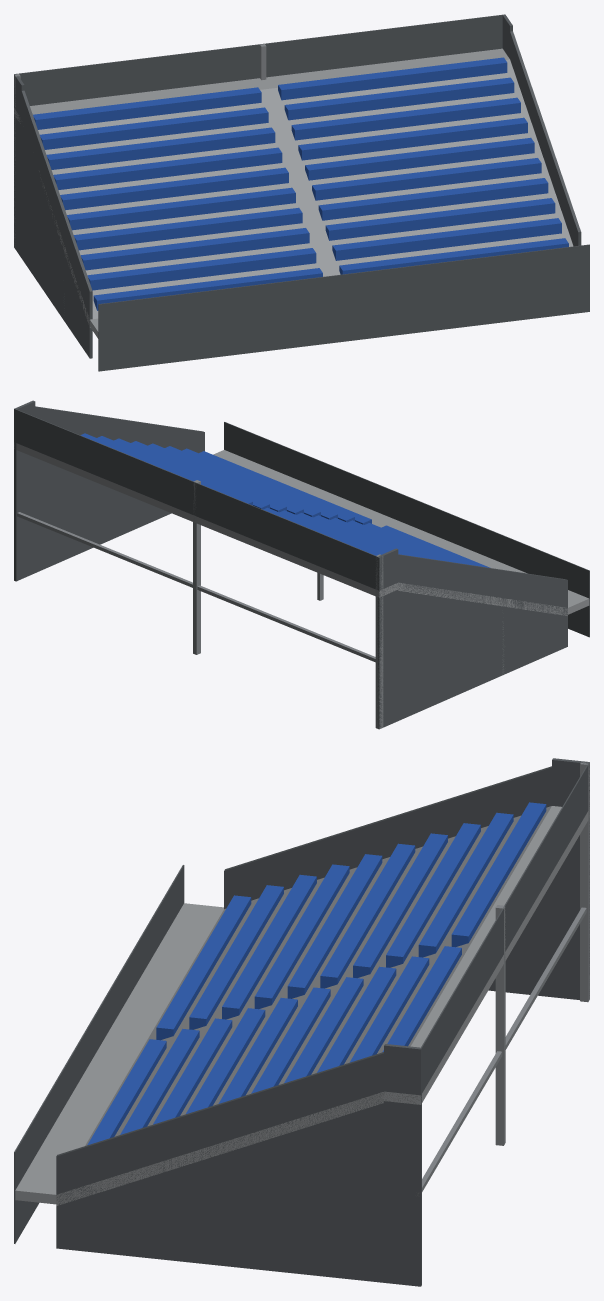
Rendered from spa_stand_gold7bis.glb.
The picture shows the model from 3 angles, top to bottom: view 1: azimuth 30°, elevation 25°; view 2: azimuth 150°, elevation 25°; view 3: azimuth 270°, elevation 25°; orthographic projection. The views are drawn at different scales.
Parts seen in each view (by area): view 1: spa-gold7bis; view 2: spa-gold7bis; view 3: spa-gold7bis.
Boxes of the visible parts, <box> form: spa-gold7bis: <box>14,14,589,371</box>; spa-gold7bis: <box>14,400,589,729</box>; spa-gold7bis: <box>14,758,589,1286</box>.
Size of the model in its own units: 18.49 by 6.2 by 13.64.
